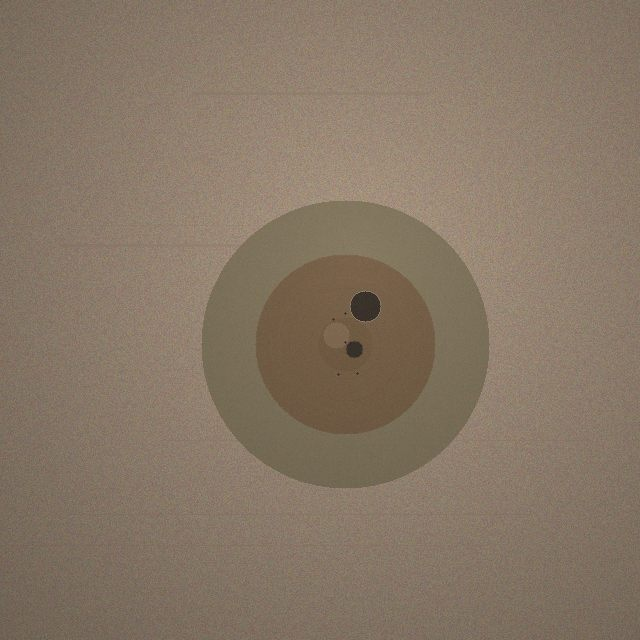shrinkage: (201, 200, 489, 488)
